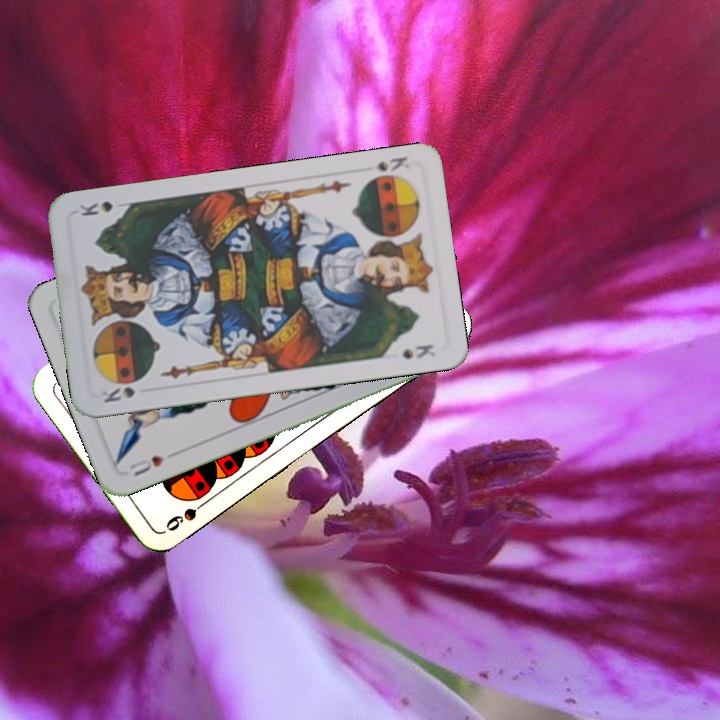HU: (126, 451, 167, 479)
S9: (161, 494, 213, 534)
SK: (97, 383, 138, 406), (373, 152, 412, 175)
